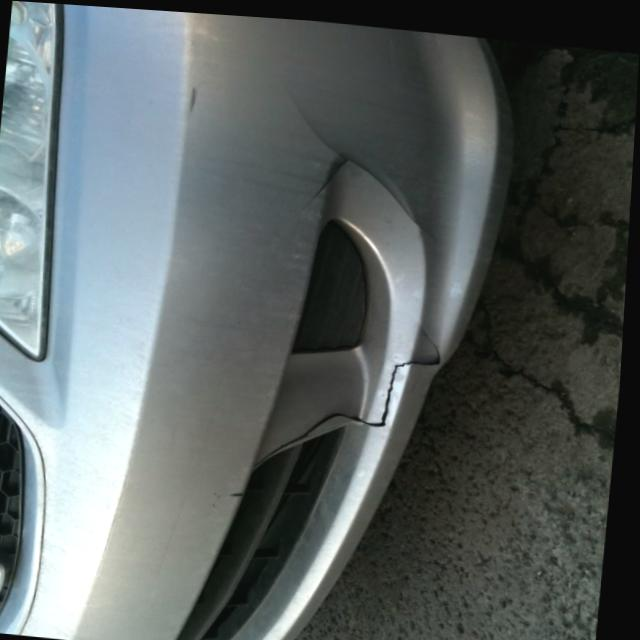Crack: (244, 322, 443, 474), (301, 108, 438, 242)
Scratch: (182, 84, 197, 119), (228, 488, 250, 499)
